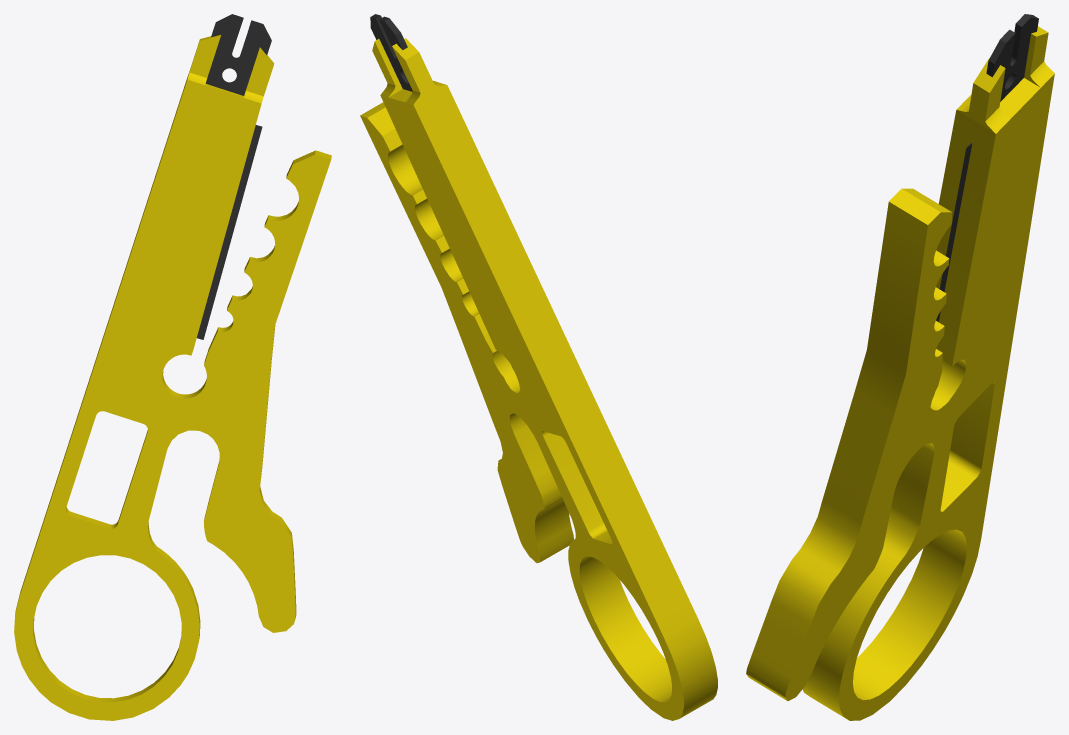
File: Cutter.glb
3 renders of one model, left to right at view 1: azimuth 30°, elevation 25°; view 2: azimuth 150°, elevation 25°; view 3: azimuth 270°, elevation 25°, orthographic. The views are drawn at different scales.
Visible parts, largest first — view 1: Wire Stripper; view 2: Wire Stripper; view 3: Wire Stripper.
Part boxes in pixels (<box>): Wire Stripper: <box>14,14,331,720</box>; Wire Stripper: <box>360,14,717,720</box>; Wire Stripper: <box>746,14,1054,720</box>.
Size of the model in its own units: 0.0702 by 0.1308 by 0.045.
